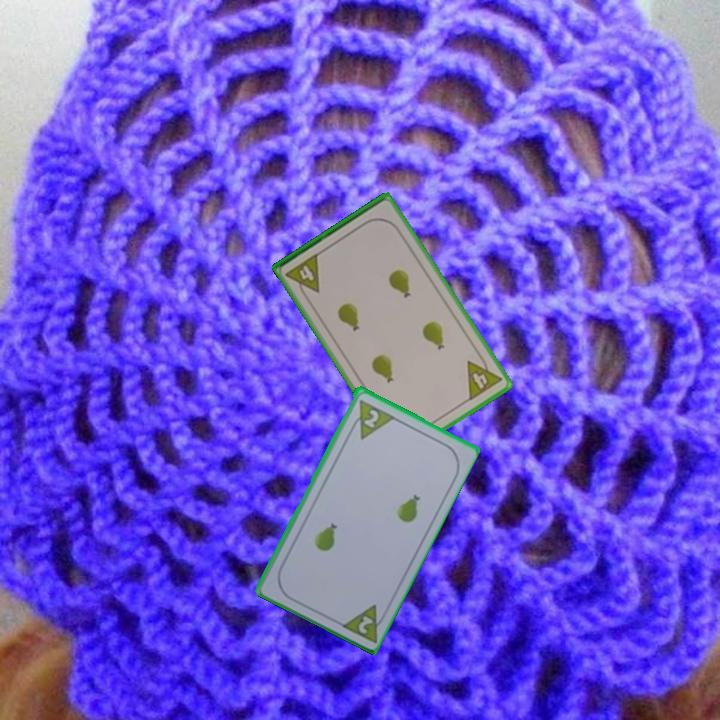2p: (360, 405, 382, 431), (354, 612, 376, 636)
4p: (463, 350, 505, 404), (282, 250, 323, 302)
